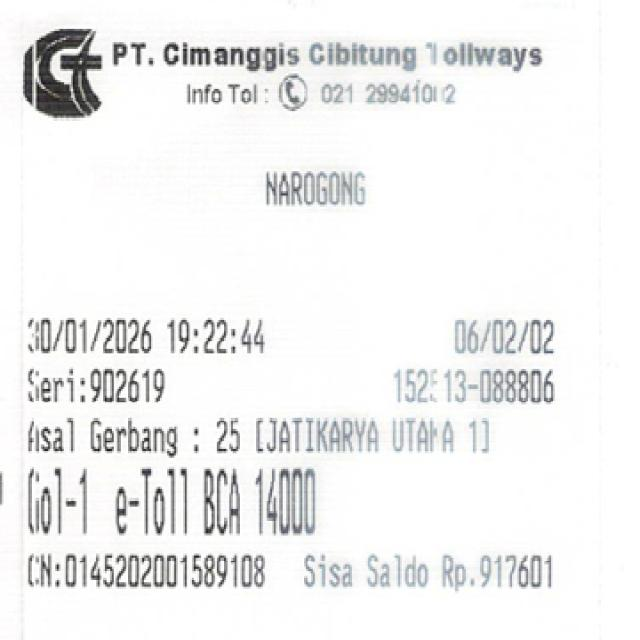date: (12, 313, 275, 362)
store: (103, 36, 549, 74)
total: (244, 467, 338, 537)
